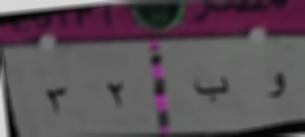2: (100, 76, 128, 113)
3: (40, 82, 72, 118)
baa: (189, 72, 231, 106)
waw: (258, 64, 291, 106)
